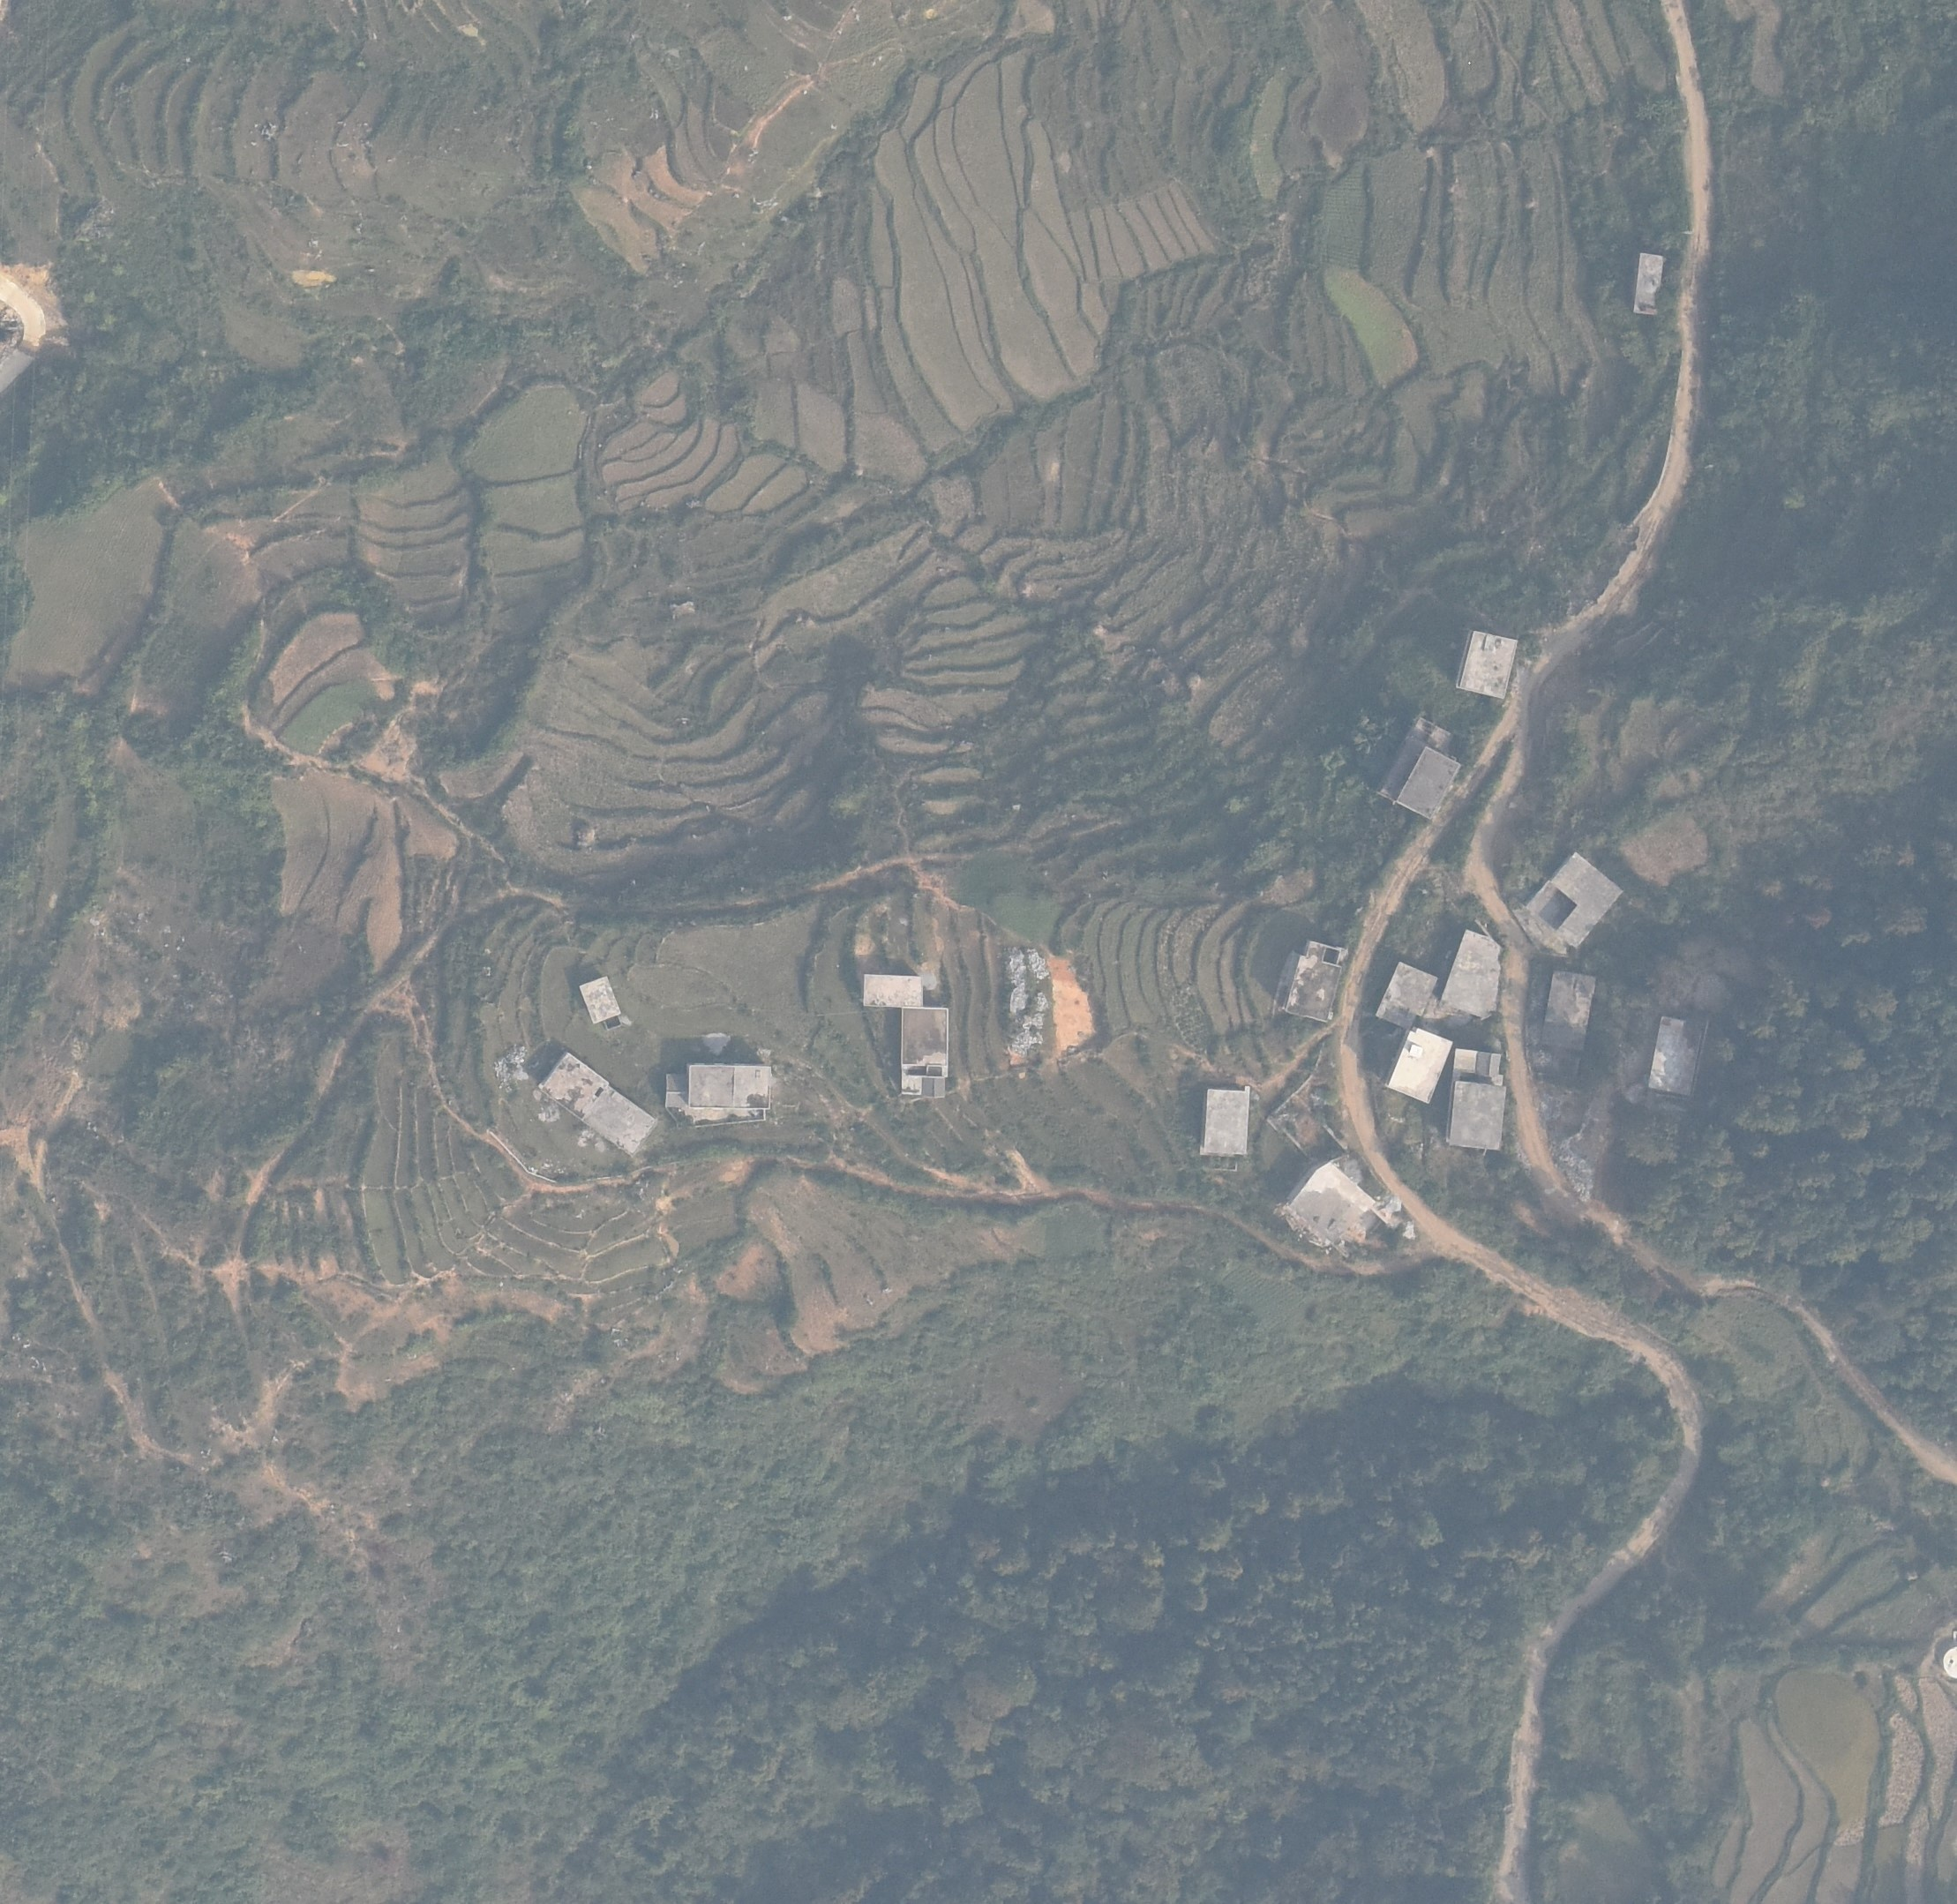building: (1523, 853, 1621, 952), (1376, 715, 1463, 821), (1276, 1161, 1376, 1246), (665, 1063, 770, 1127), (1445, 1047, 1508, 1150), (1439, 928, 1503, 1022), (1272, 939, 1341, 1023), (1383, 1025, 1454, 1106), (581, 1086, 658, 1158), (1646, 1012, 1709, 1100), (538, 1050, 610, 1122), (1539, 969, 1596, 1050), (1452, 630, 1518, 700), (1376, 962, 1438, 1031), (901, 1006, 948, 1098), (1201, 1083, 1248, 1157), (580, 975, 622, 1031), (1631, 250, 1667, 316), (861, 973, 924, 1009)
